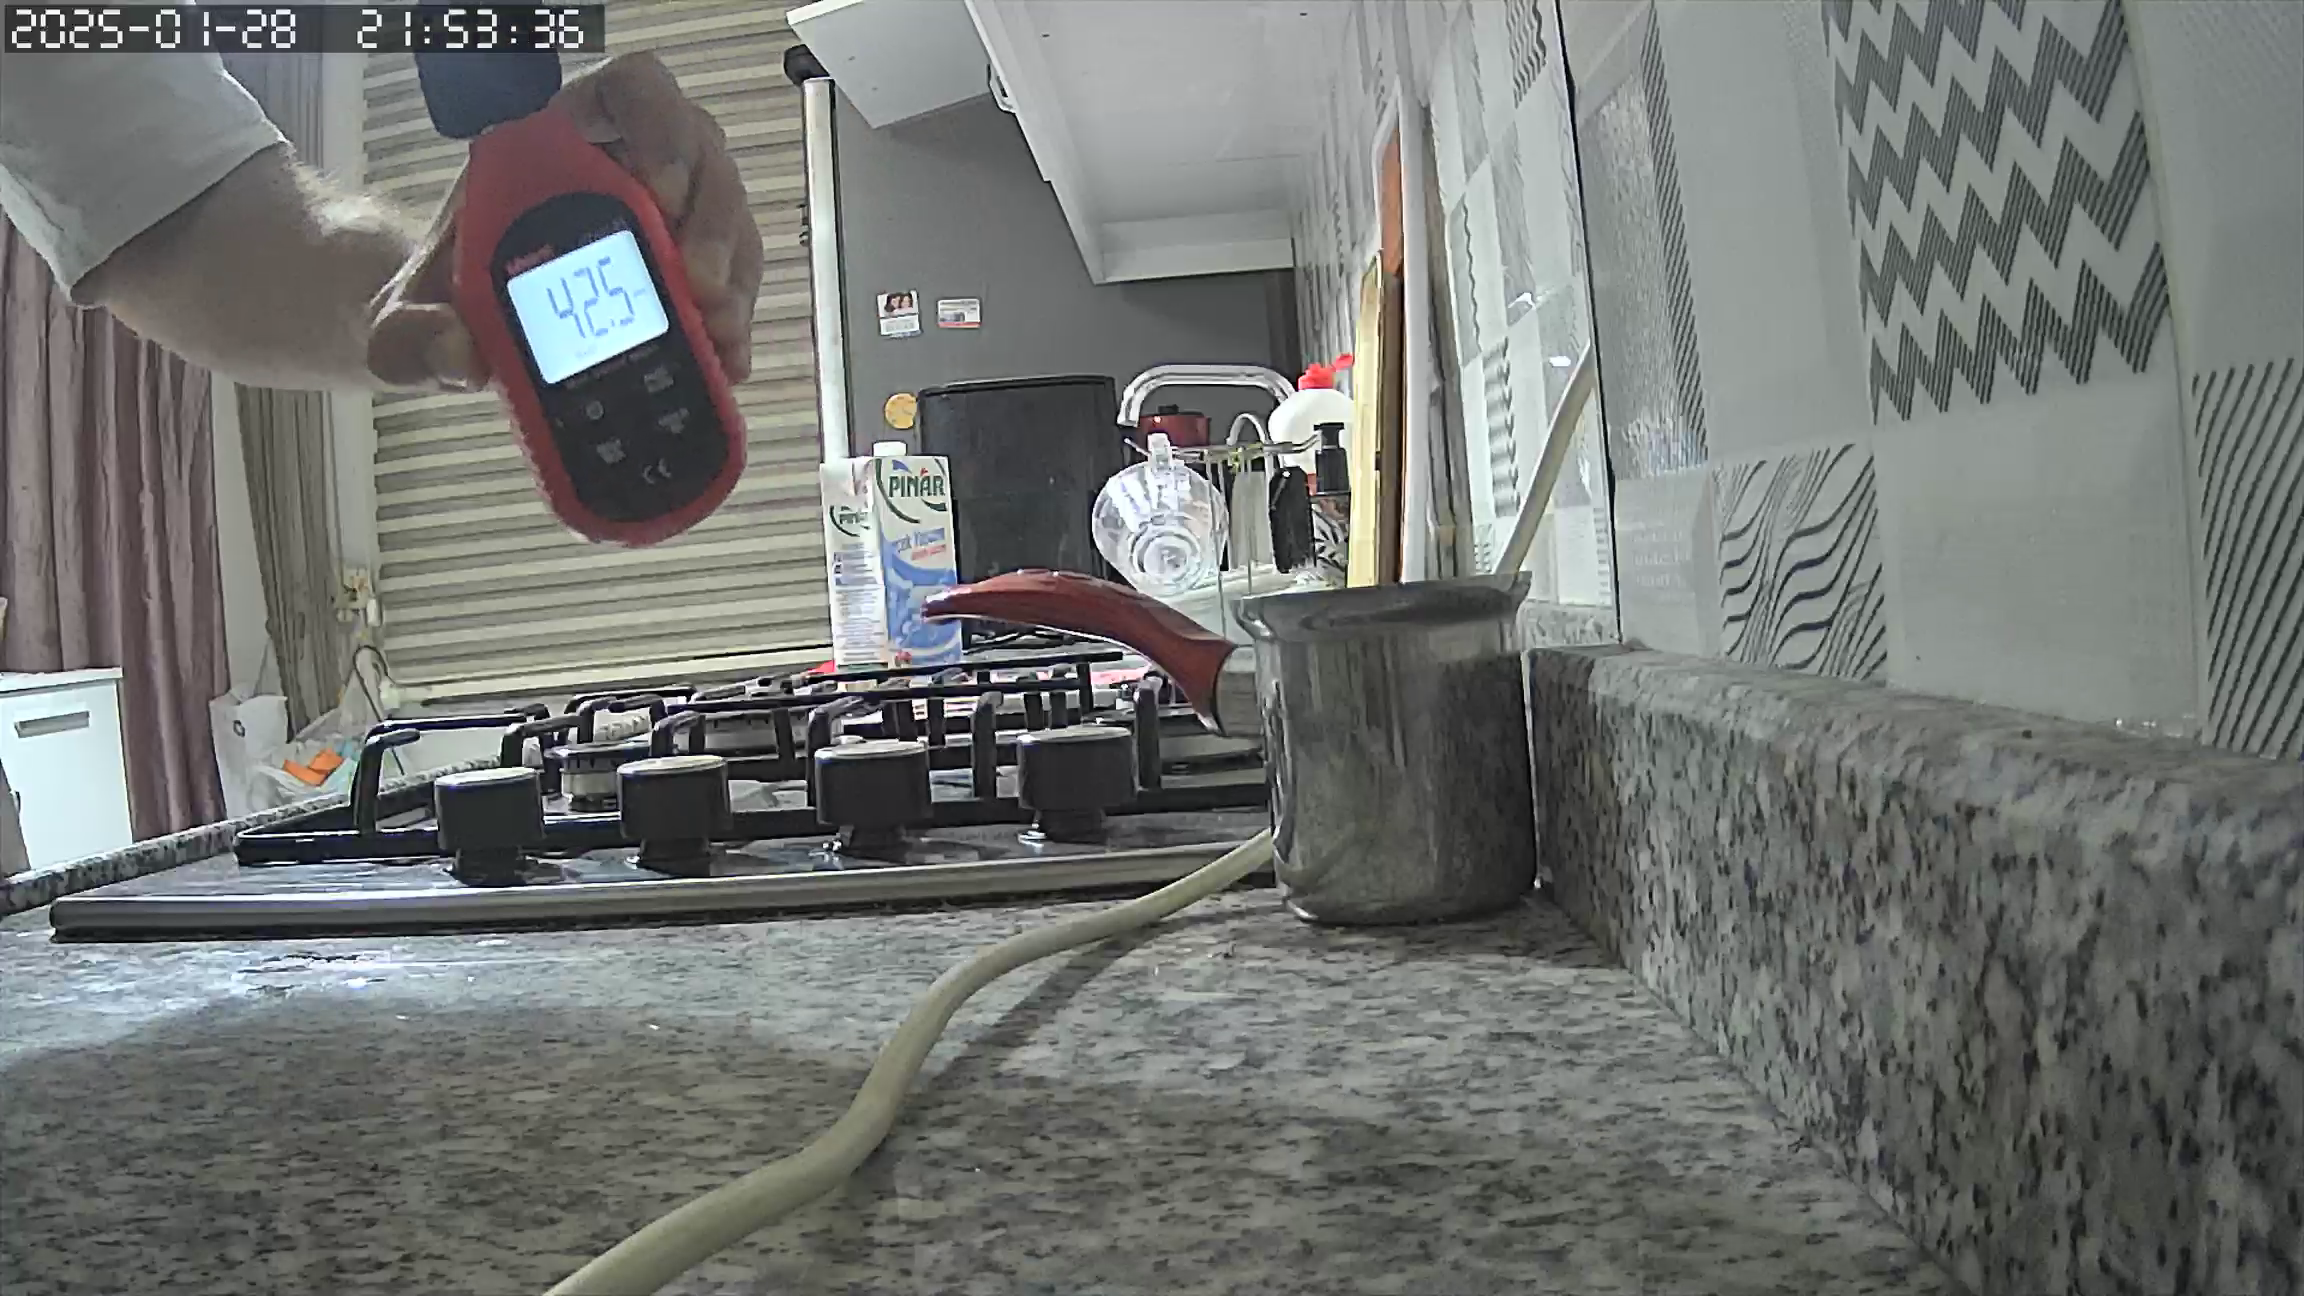screen: (508, 229, 666, 380)
